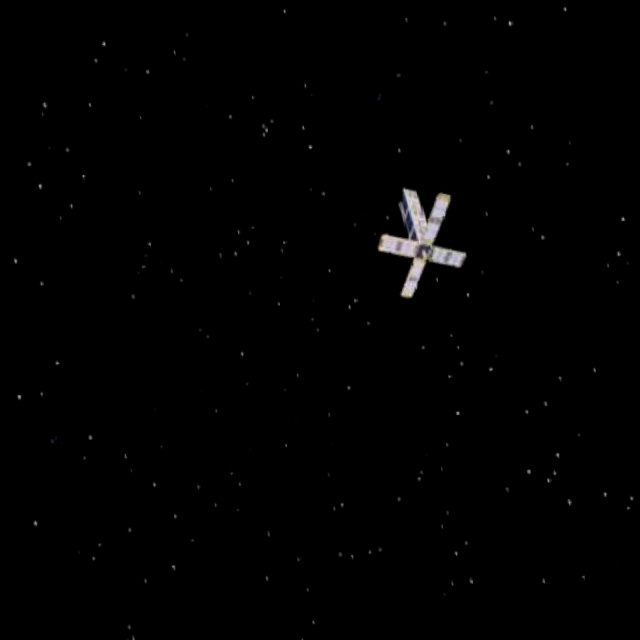medium_debris: (353, 168, 489, 315)
